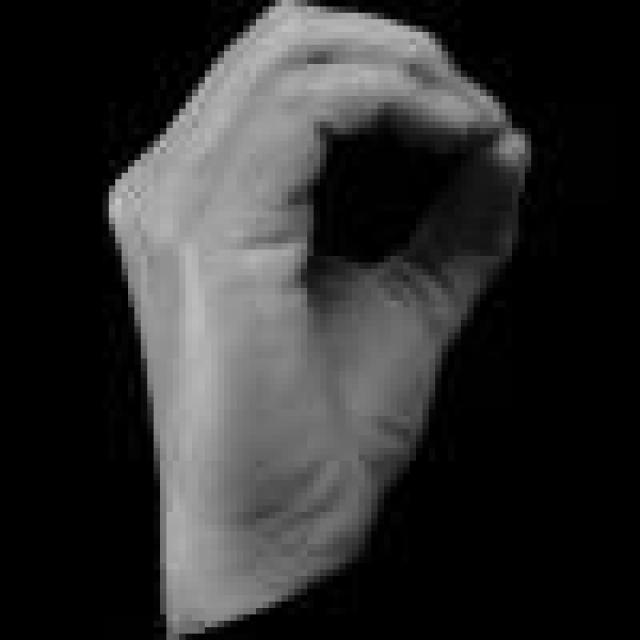O: (76, 0, 538, 544)
